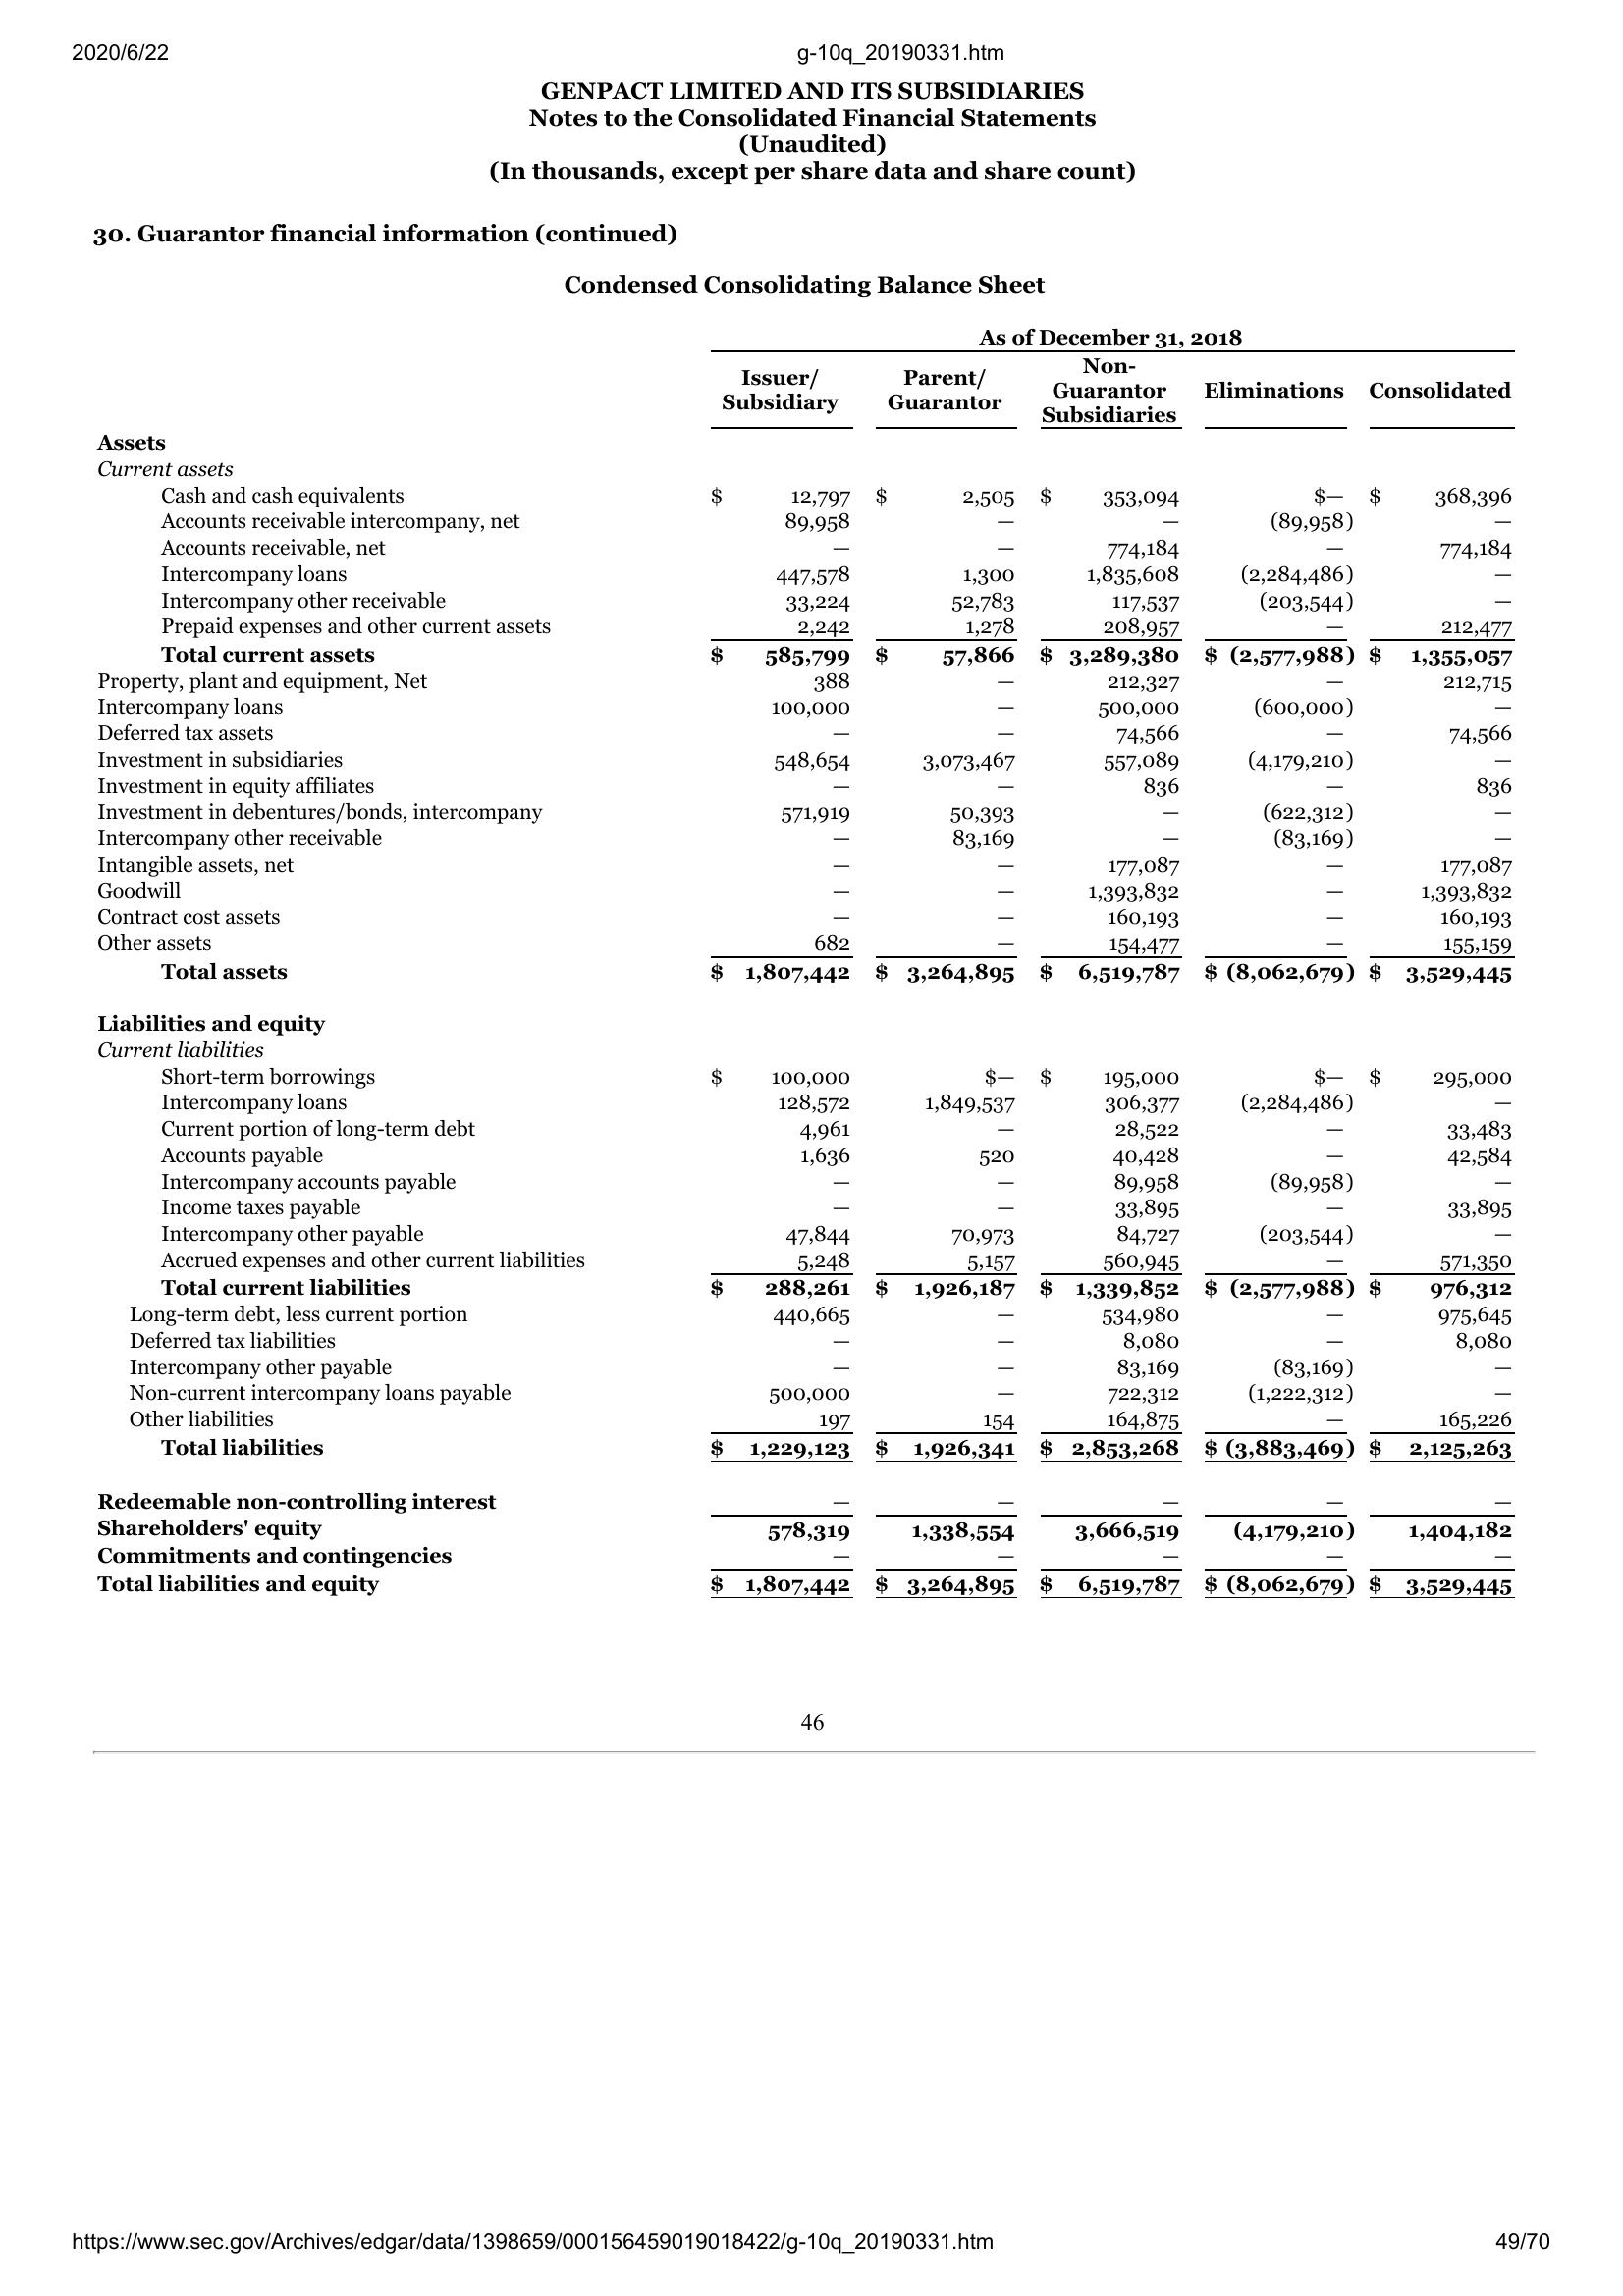table: (84, 326, 1526, 1611)
